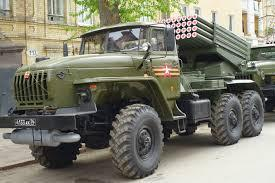rszo: (13, 11, 269, 170)
